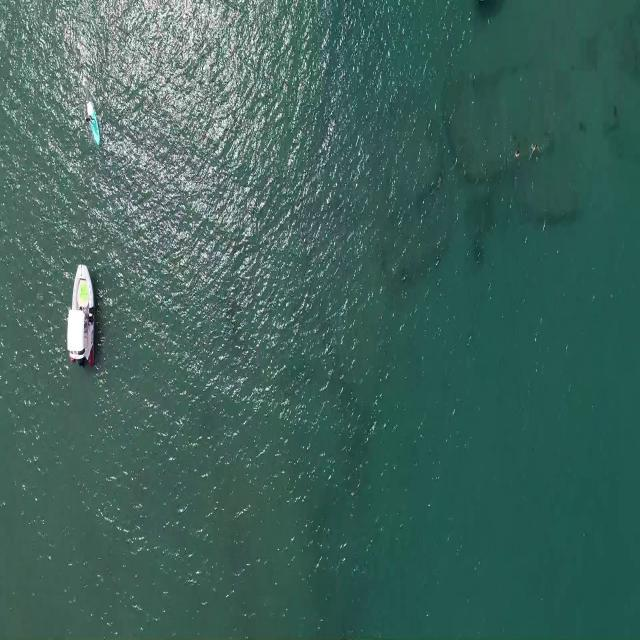boat: (66, 252, 98, 372)
person: (528, 142, 544, 155), (86, 112, 97, 126), (513, 148, 521, 158)
surfboard: (86, 99, 100, 148)
